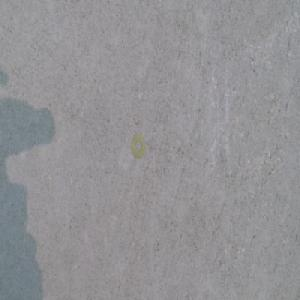Washer: (131, 134, 145, 159)
